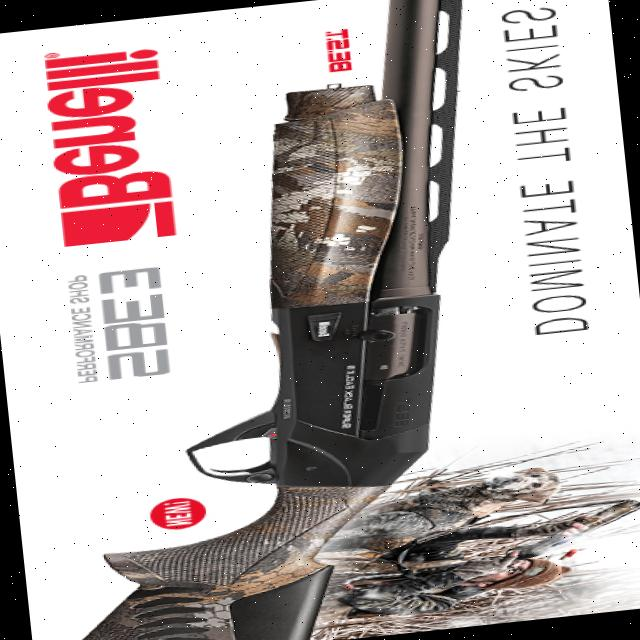Shotgun: (0, 0, 531, 640), (479, 481, 640, 571)
